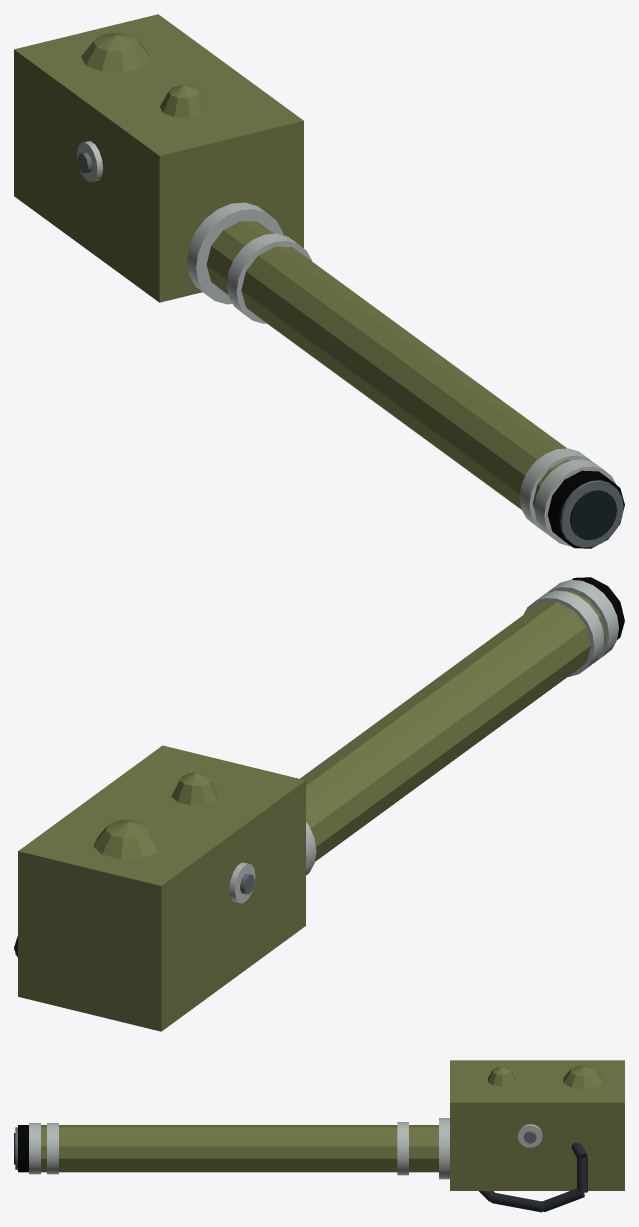
The model's file is CANNON.glb.
The picture shows the model from 3 angles, top to bottom: view 1: azimuth 30°, elevation 25°; view 2: azimuth 150°, elevation 25°; view 3: azimuth 270°, elevation 25°; orthographic projection. The views are drawn at different scales.
Visible parts, largest first — view 1: CANNON | archived geometry, CANNON | water nozzle, union, hose and pivot bolts; view 2: CANNON | archived geometry, CANNON | water nozzle, union, hose and pivot bolts; view 3: CANNON | archived geometry, CANNON | water nozzle, union, hose and pivot bolts.
Boxes of the visible parts, left/top/right/bottom form: CANNON | archived geometry: left=14, top=14, right=624, bottom=548; CANNON | water nozzle, union, hose and pivot bolts: left=77, top=141, right=623, bottom=547; CANNON | archived geometry: left=18, top=577, right=624, bottom=1031; CANNON | water nozzle, union, hose and pivot bolts: left=14, top=579, right=622, bottom=957; CANNON | archived geometry: left=18, top=1060, right=624, bottom=1190; CANNON | water nozzle, union, hose and pivot bolts: left=14, top=1118, right=587, bottom=1212.
Size of the model in its own units: 0.2689 by 0.2553 by 1.23.
